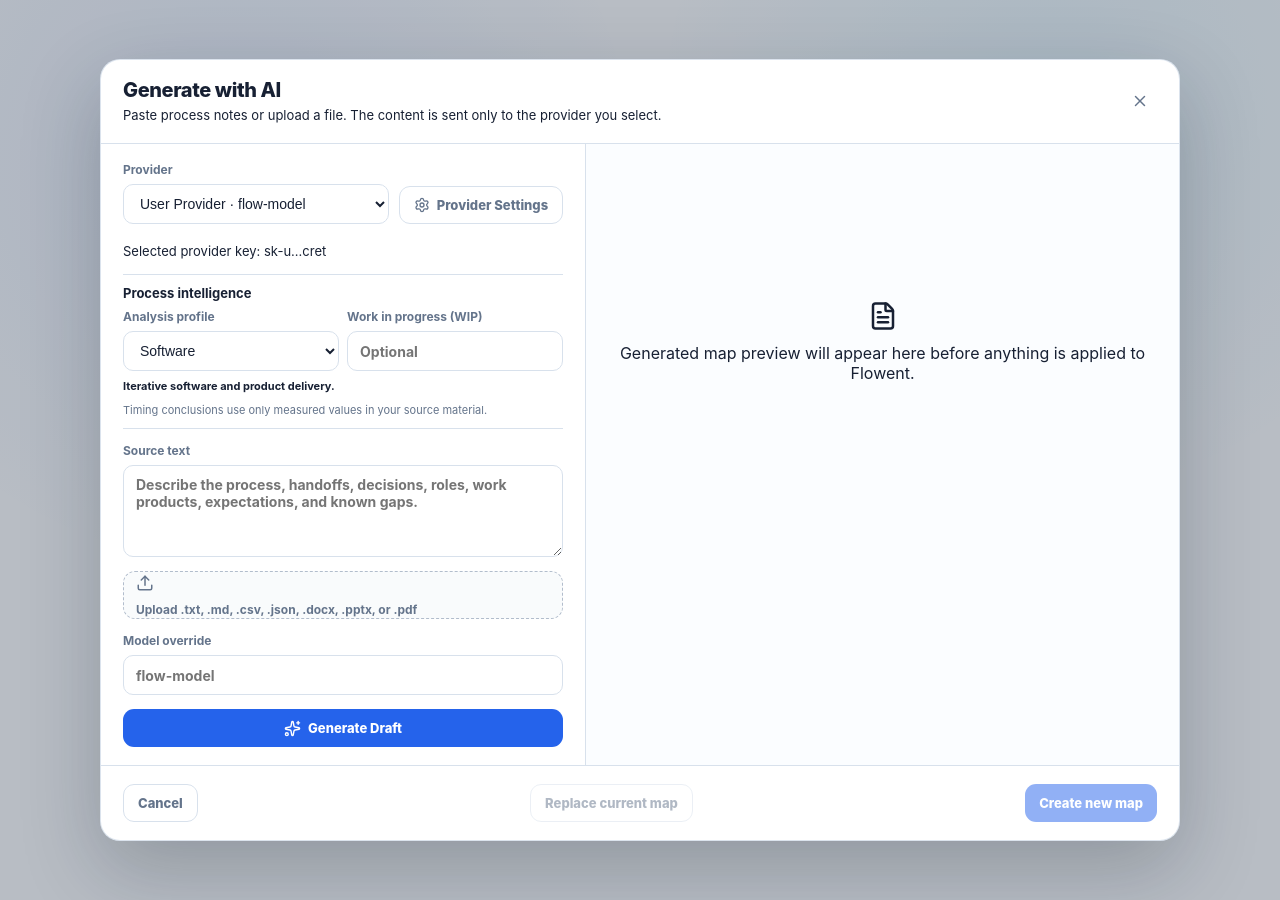
Test case: AIGenerateModal › shows generation progress while the provider request is running
The image size is (1280, 900).
Expected: the text "Selected provider key: sk-u...cret" is shown, [123,243,326,259]
Replace the text in the text box labelled "Source text" with "Support triages customer defects.": (343, 511) [123,465,563,557]
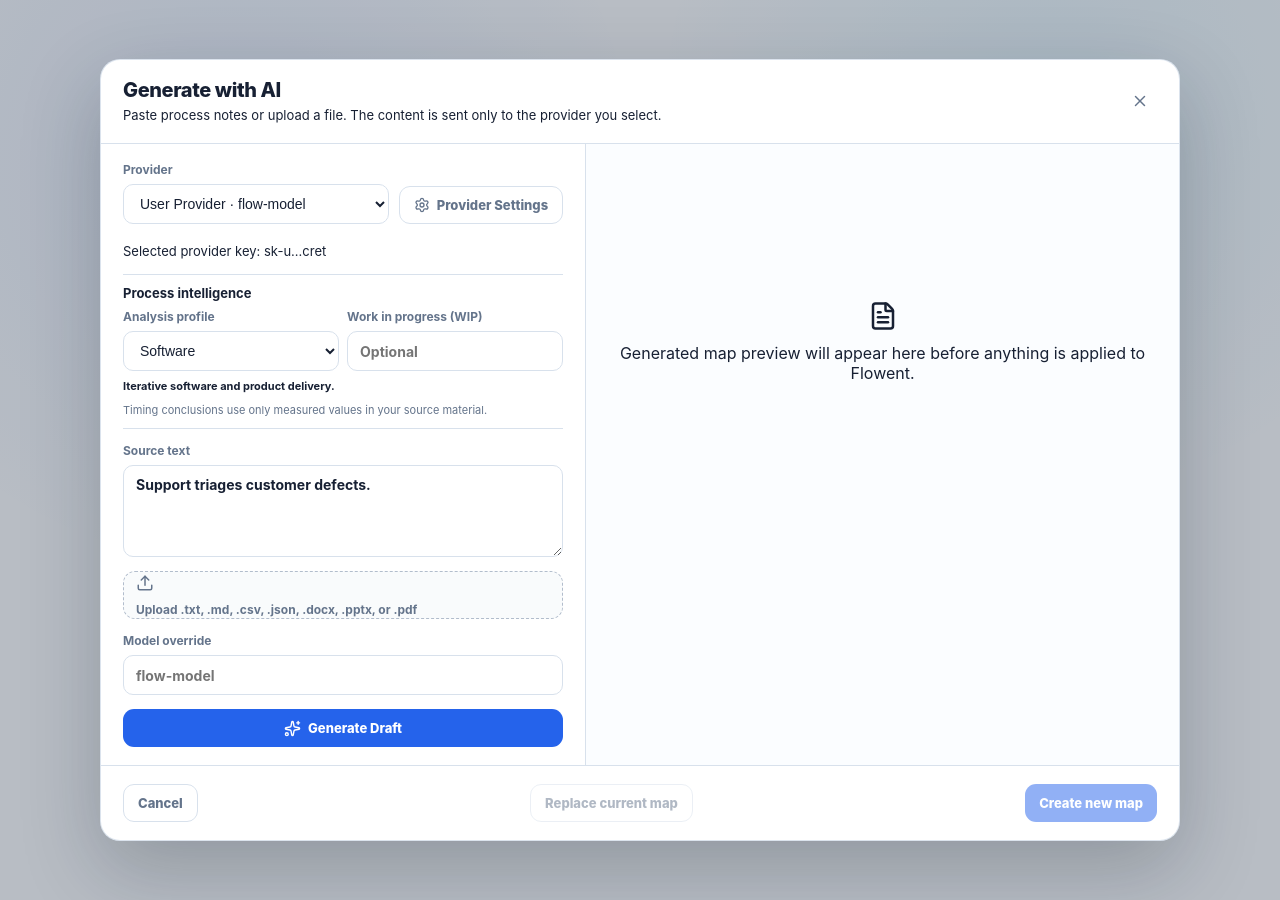
Click the button "Generate Draft": (343, 728) [123,709,563,747]
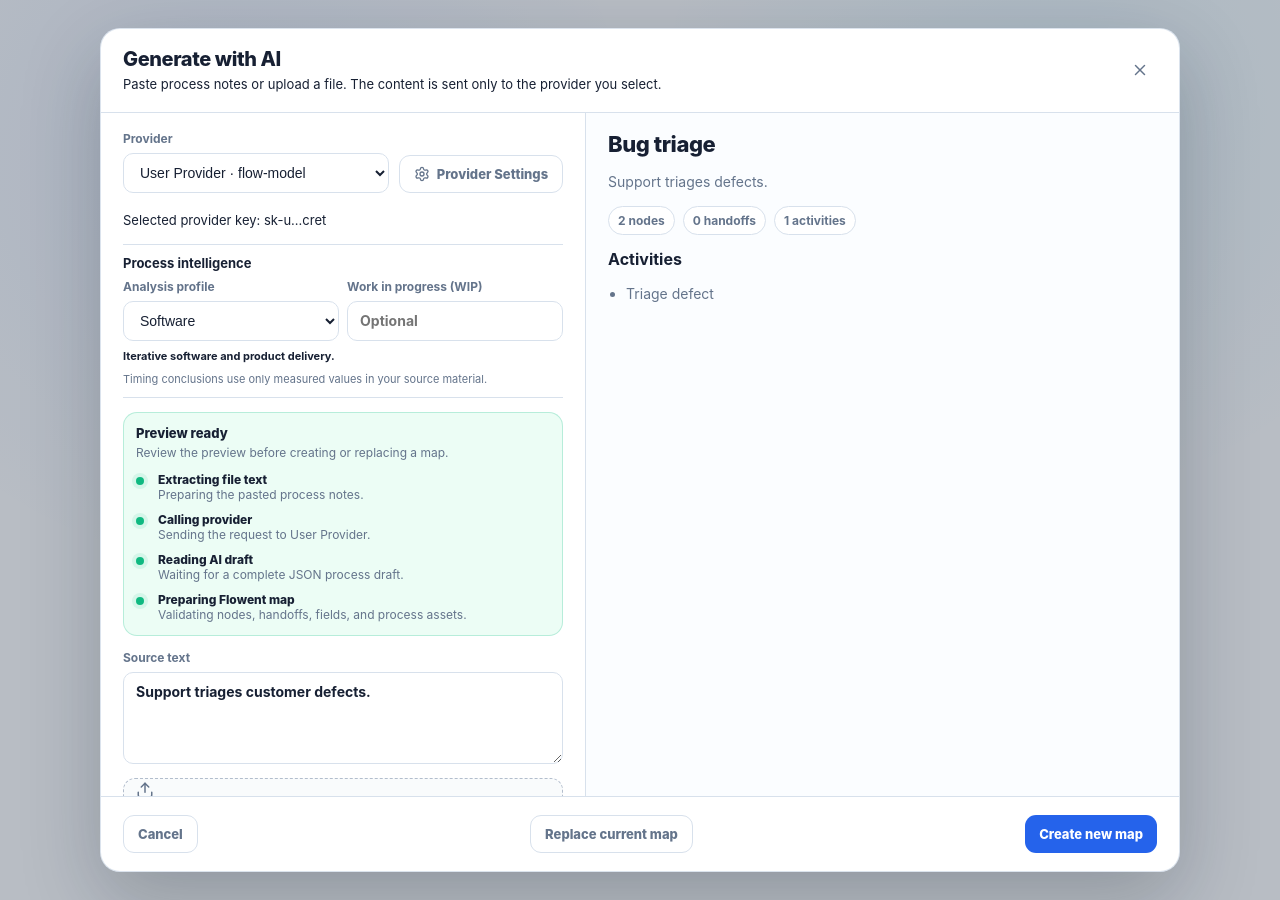
Expected: the text "Extracting file text" is shown, [158,472,267,487]
Expected: the text "Calling provider" is shown, [158,512,252,527]
Expected: the text "Reading AI draft" is shown, [158,552,253,567]
